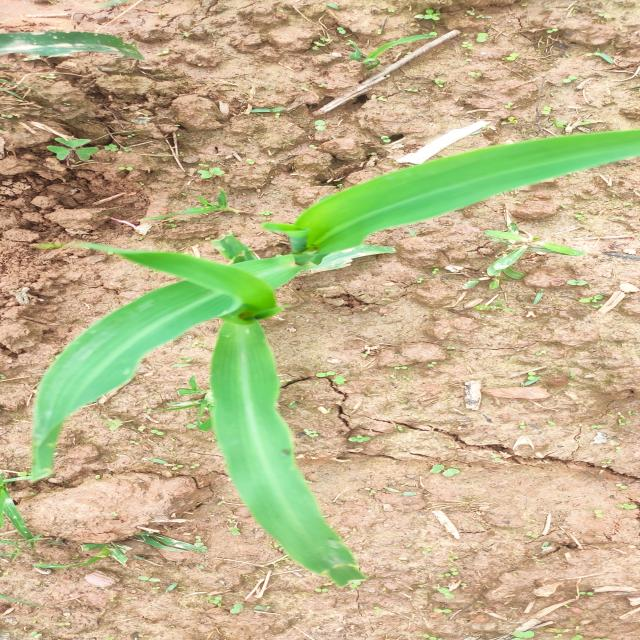maize: (142, 139, 476, 566), (0, 31, 187, 78)
weed: (500, 230, 640, 328), (28, 134, 118, 180)
